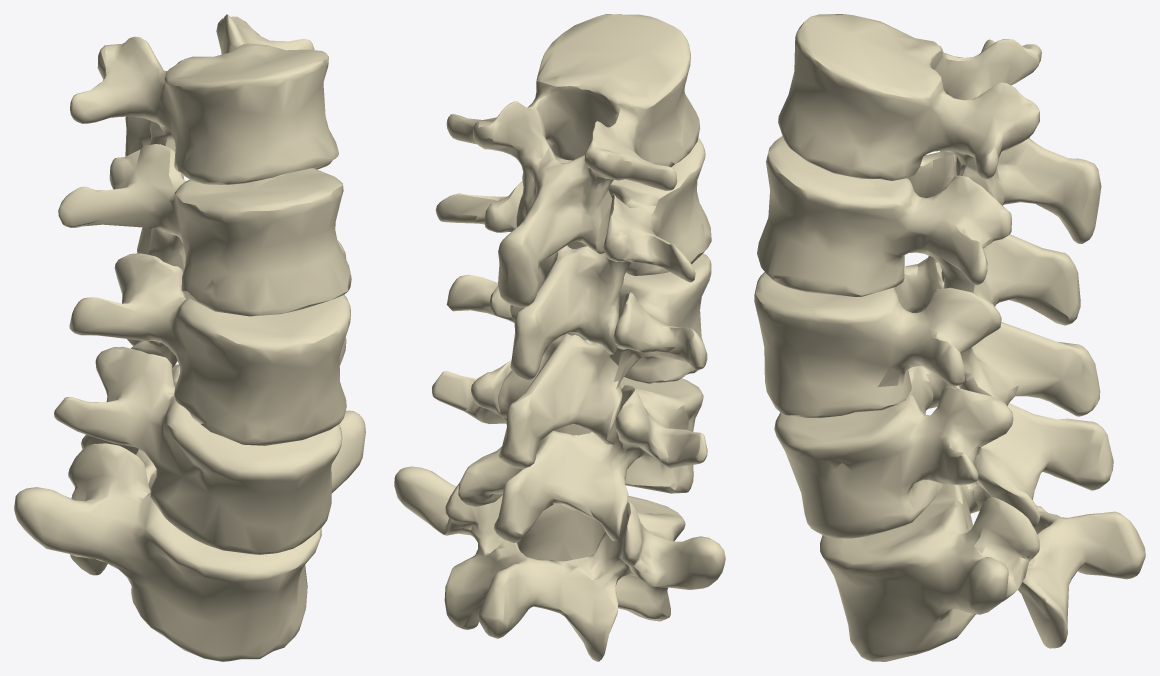
The model's file is lumbar_vertebra.glb.
3 views of the same model, side by side, from view 1: azimuth 30°, elevation 25°; view 2: azimuth 150°, elevation 25°; view 3: azimuth 270°, elevation 25° (orthographic). The views are drawn at different scales.
Parts seen in each view (by area): view 1: Lumbar Vertebra; view 2: Lumbar Vertebra; view 3: Lumbar Vertebra.
Boxes of the visible parts, x1=… form: Lumbar Vertebra: x1=14, y1=14, x2=365, y2=661; Lumbar Vertebra: x1=394, y1=14, x2=725, y2=661; Lumbar Vertebra: x1=754, y1=14, x2=1145, y2=661.
Bounding box in the file's own units: 0.1006 × 0.1674 × 0.0971.
